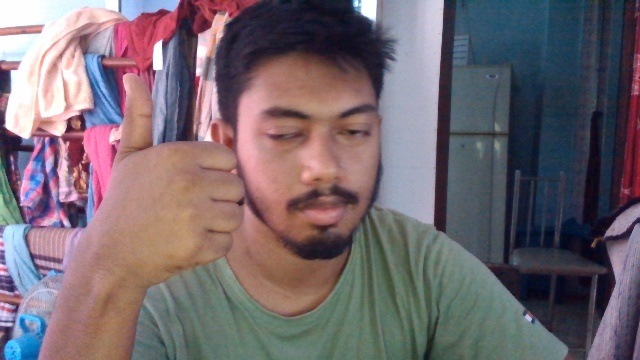yes: (82, 68, 244, 294)
